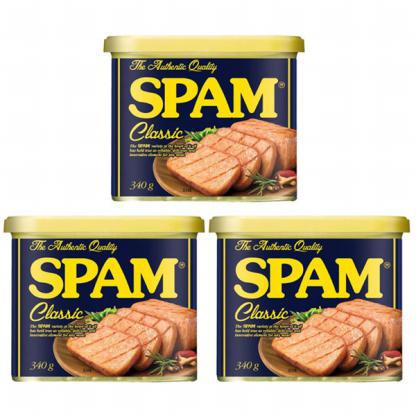spam: (203, 207, 416, 396), (99, 27, 312, 211), (0, 206, 205, 384)
